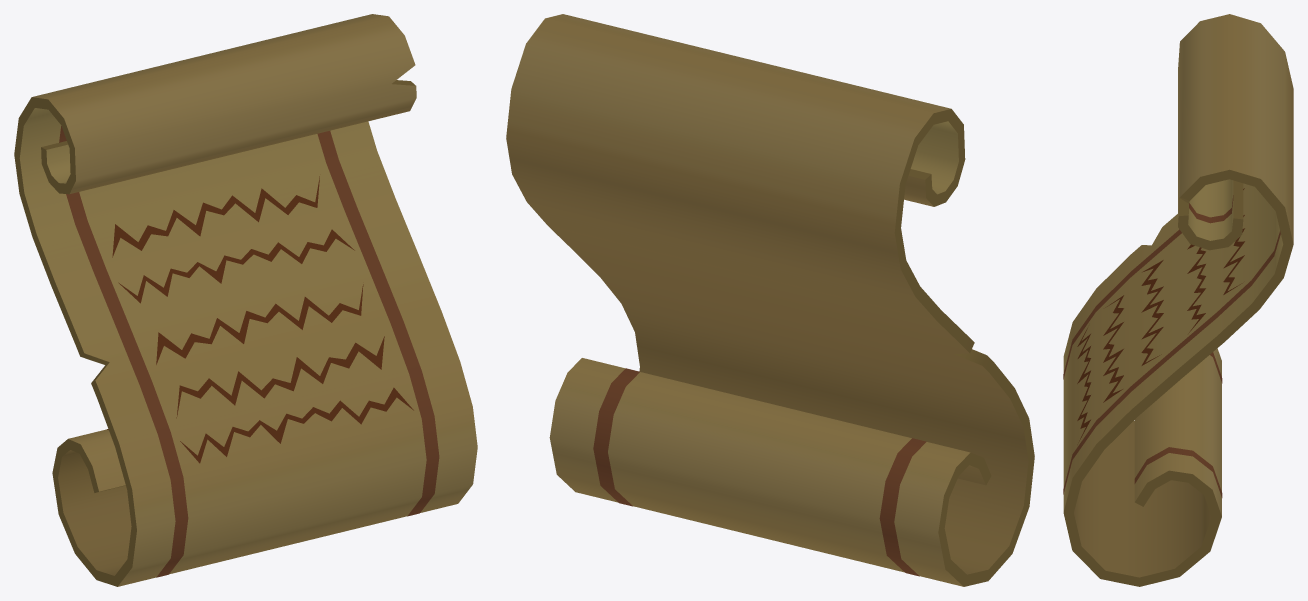
Rendered from scroll_open.glb.
3 views of the same model, side by side, from view 1: azimuth 30°, elevation 25°; view 2: azimuth 150°, elevation 25°; view 3: azimuth 270°, elevation 25° (orthographic). The views are drawn at different scales.
Visible parts, largest first — view 1: scroll_open; view 2: scroll_open; view 3: scroll_open.
Boxes of the visible parts, x1,y1,x2,y2 form: scroll_open: [14, 14, 477, 586]; scroll_open: [506, 14, 1034, 586]; scroll_open: [1063, 14, 1293, 586].
Bounding box in the file's own units: 0.4002 × 0.5002 × 0.2501.
Materials: 1 (1 with a texture image).
